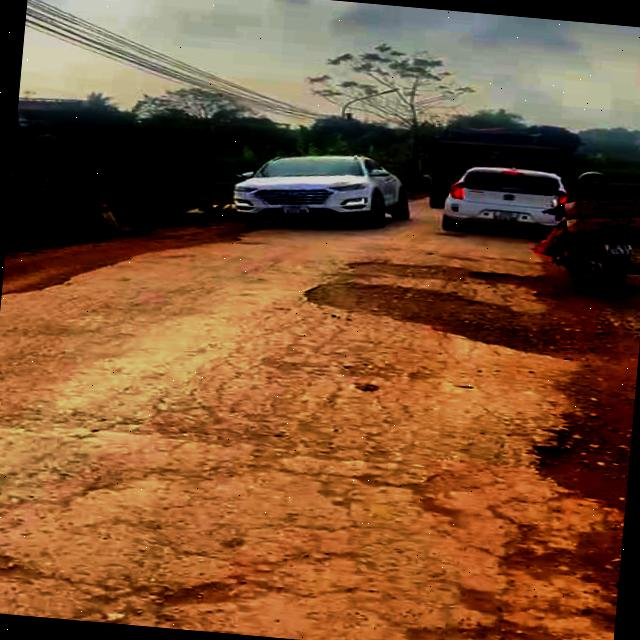pothole: (299, 249, 590, 365), (444, 515, 623, 640), (515, 402, 633, 512)
